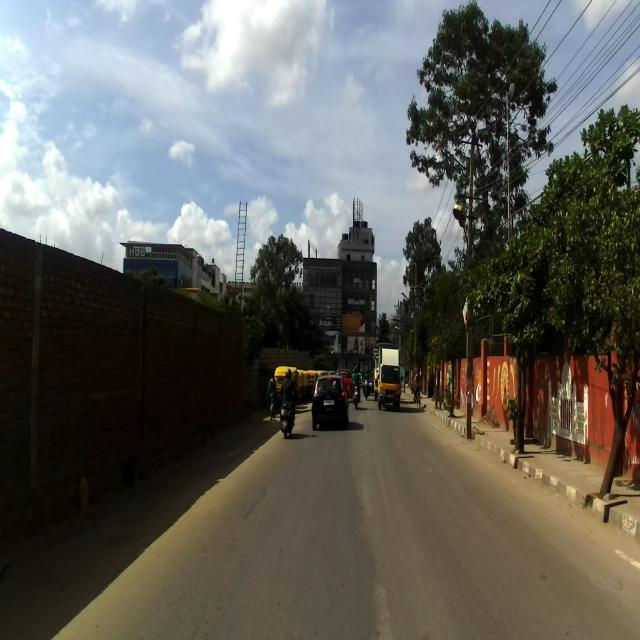Car_Ford: (312, 369, 348, 431)
scooter: (278, 389, 299, 439)
truck: (377, 346, 403, 411)
